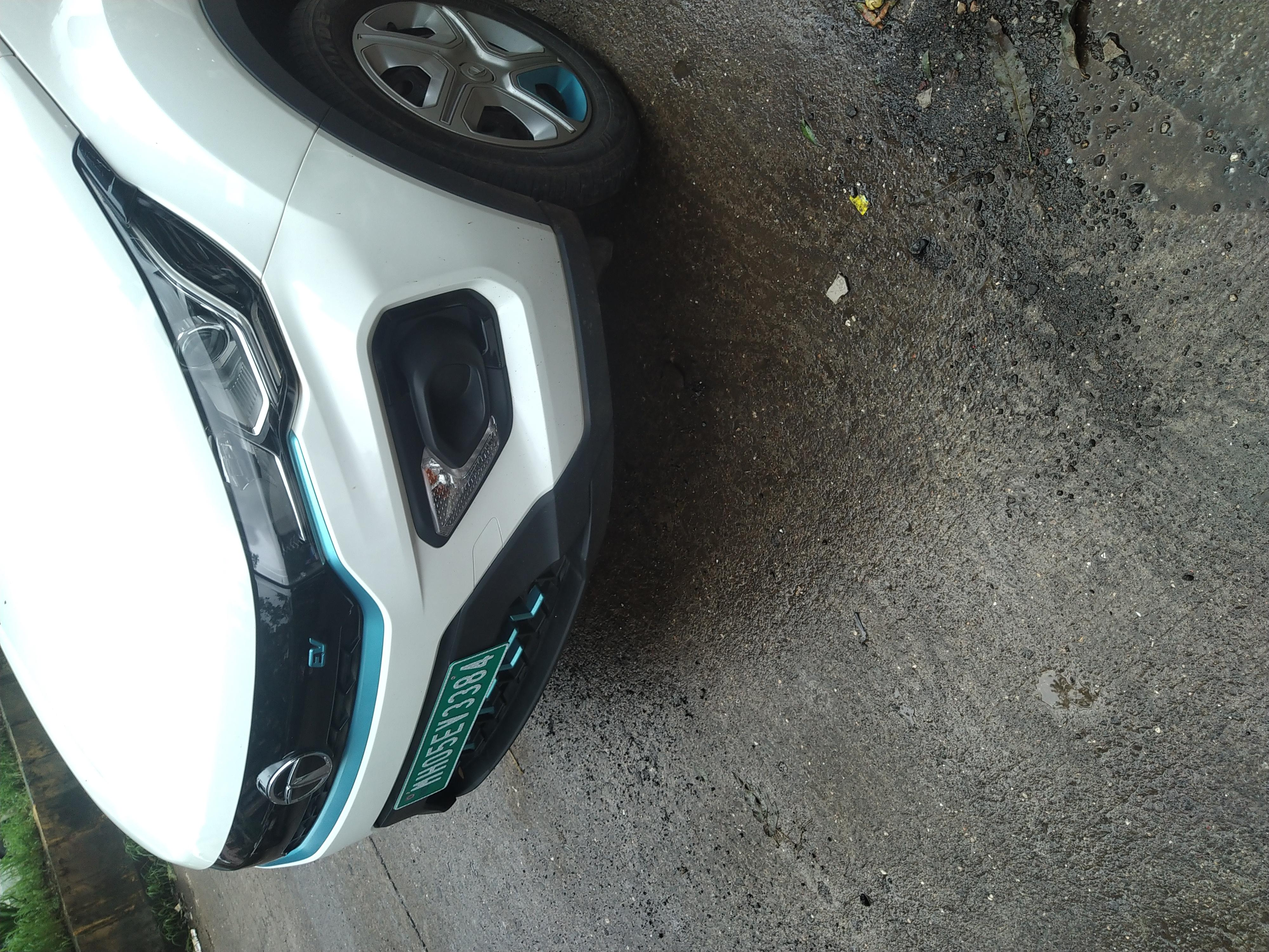green license plate: (183, 292, 418, 392)
